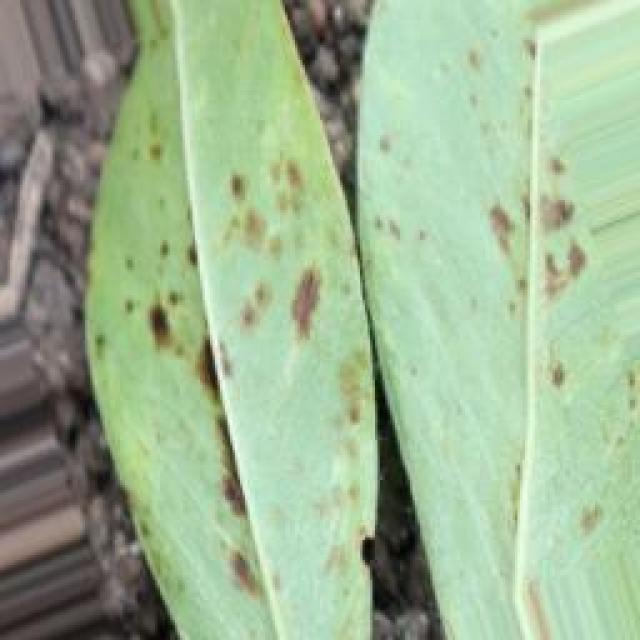Whitefly: (43, 0, 601, 579)
